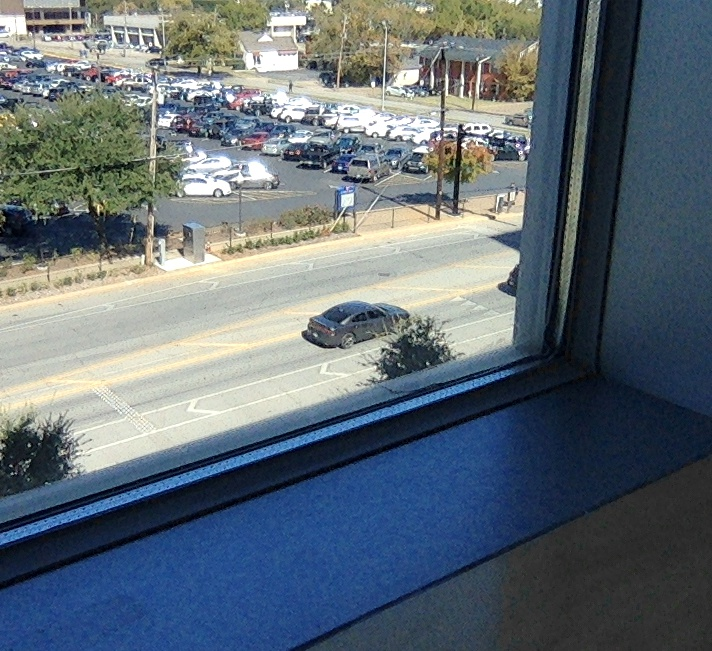car: (300, 300, 412, 351)
